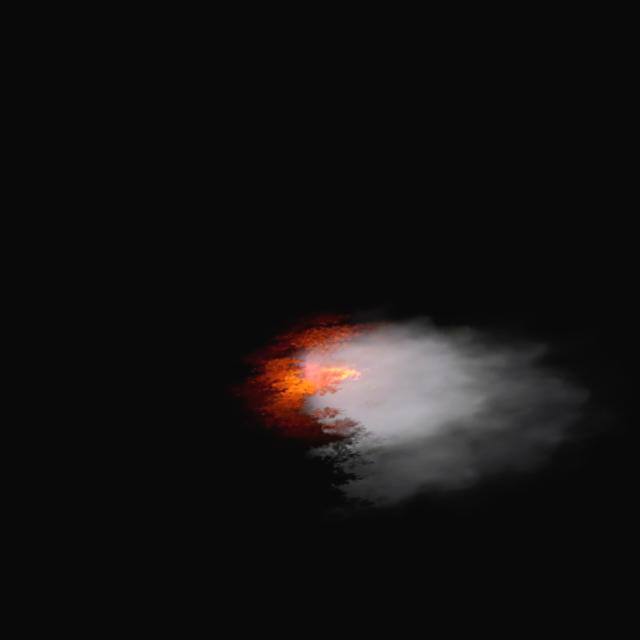fire: (272, 359, 366, 401)
smoke: (284, 296, 606, 516)
